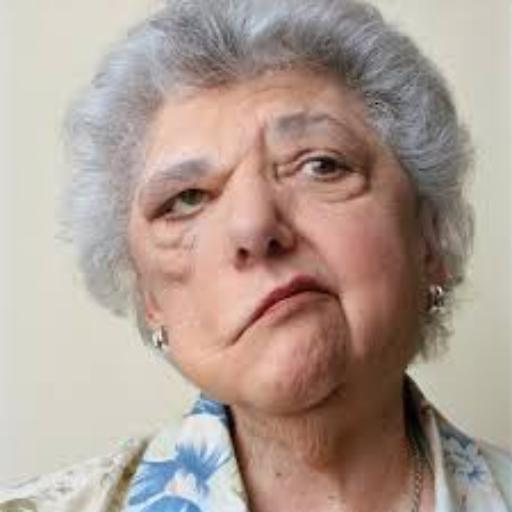left_eye: (289, 157, 358, 184)
left_lip_corner: (320, 283, 342, 307)
right_eye: (152, 186, 220, 223)
right_lip_corner: (228, 317, 258, 349)
